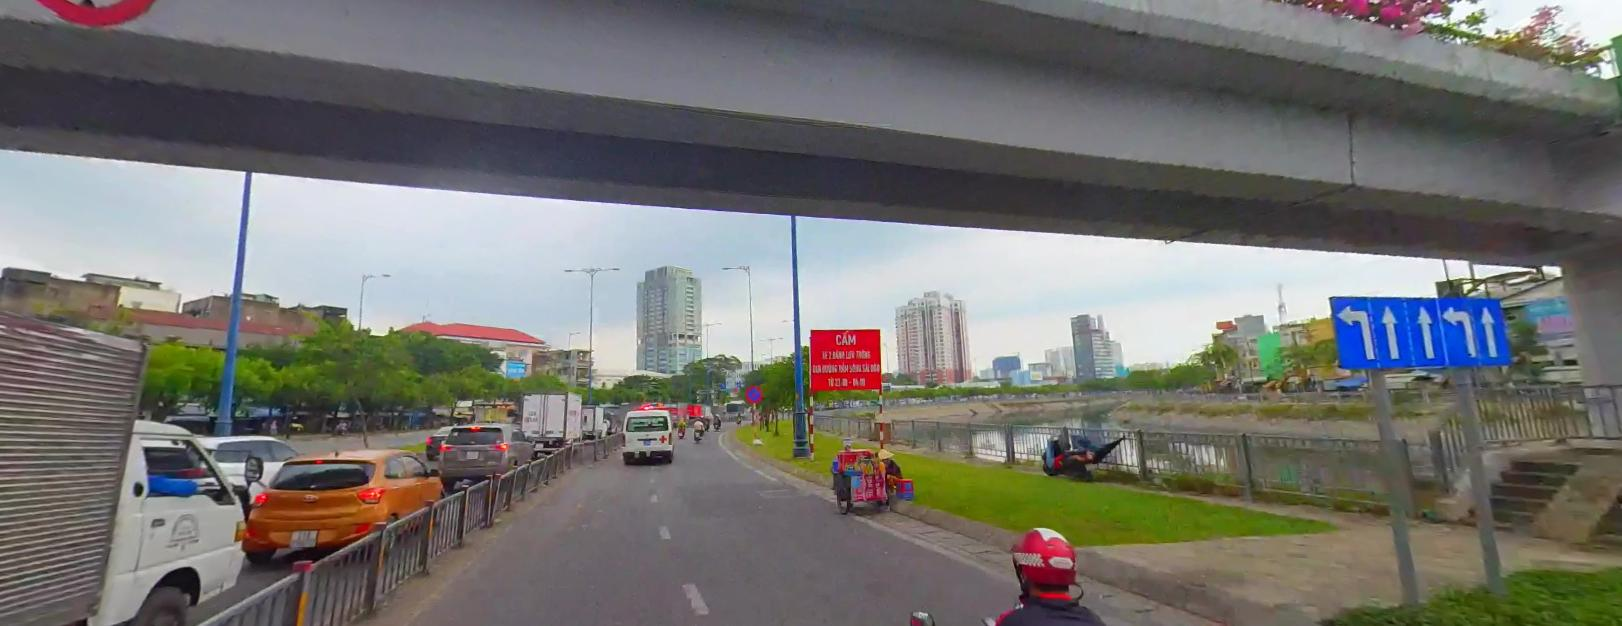Cam con lai: (31, 1, 160, 30)
Cam dung va do: (745, 384, 763, 401)
